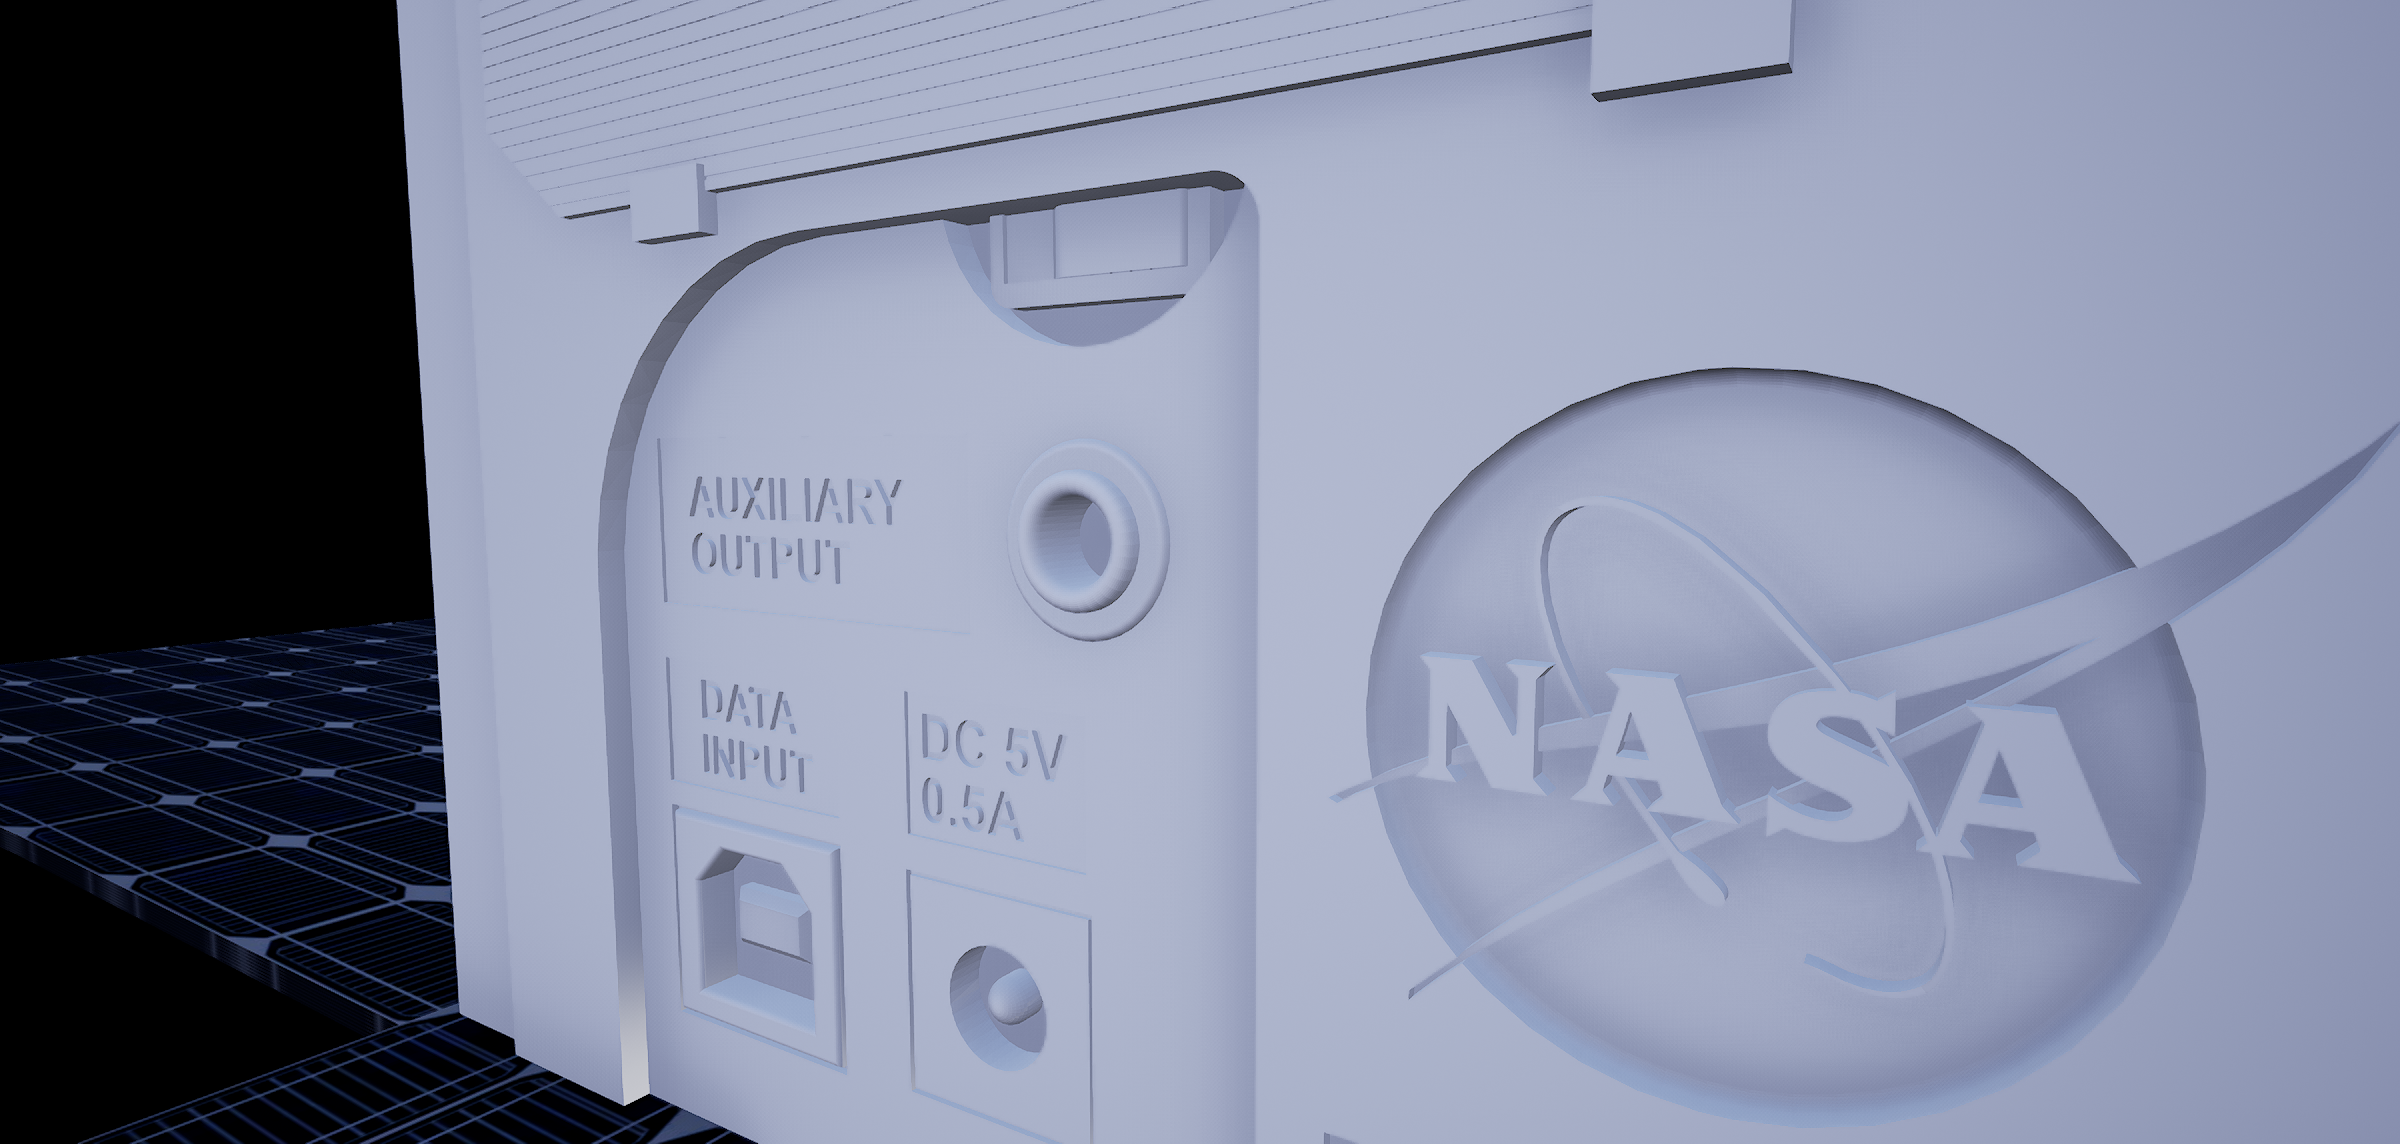aux: (987, 438, 1194, 657)
dc: (934, 923, 1061, 1084)
usb: (686, 845, 823, 1049)
